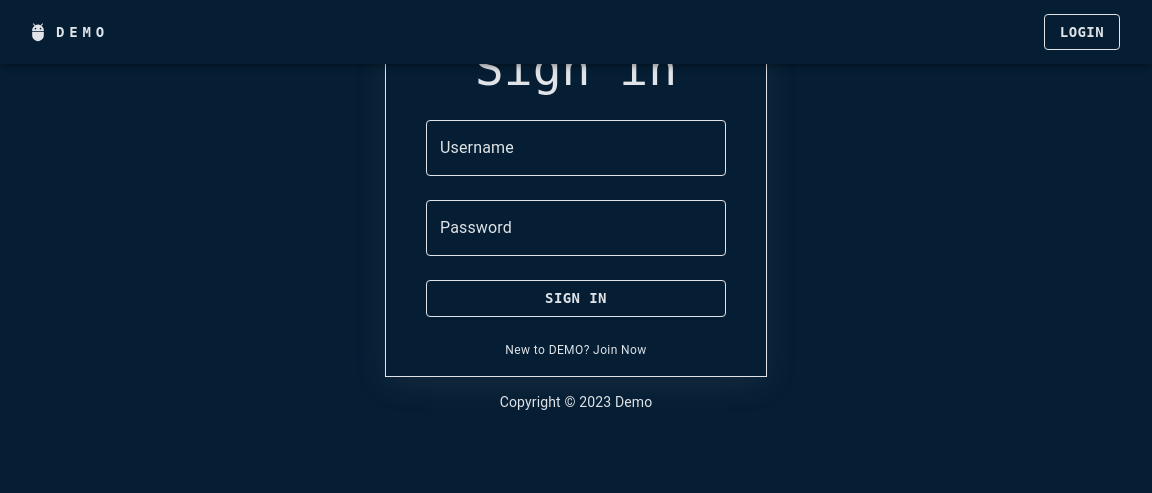
Test: User submits invalid login credentials › it should show an error alert
Click the field labelled "Username" at (576, 148), box [426, 120, 726, 176]
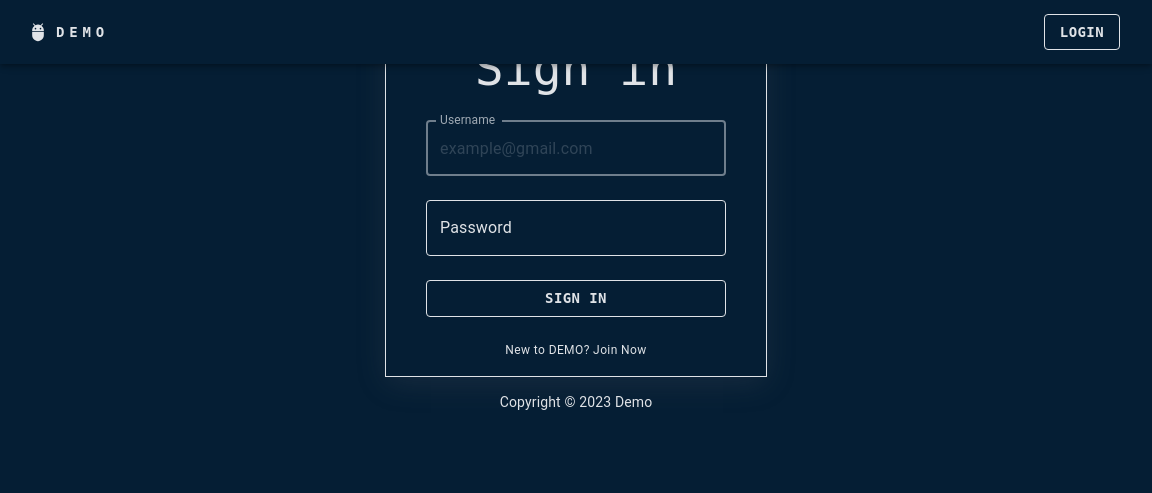
Type keys "dummyusers@hotmail.com"
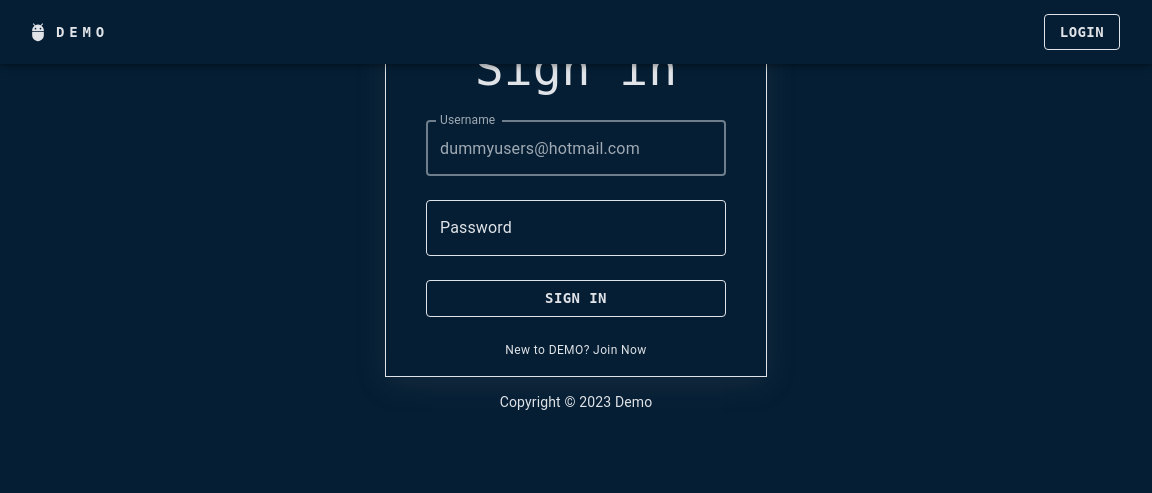
Click the password field labelled "Password" at (576, 228), box [426, 200, 726, 256]
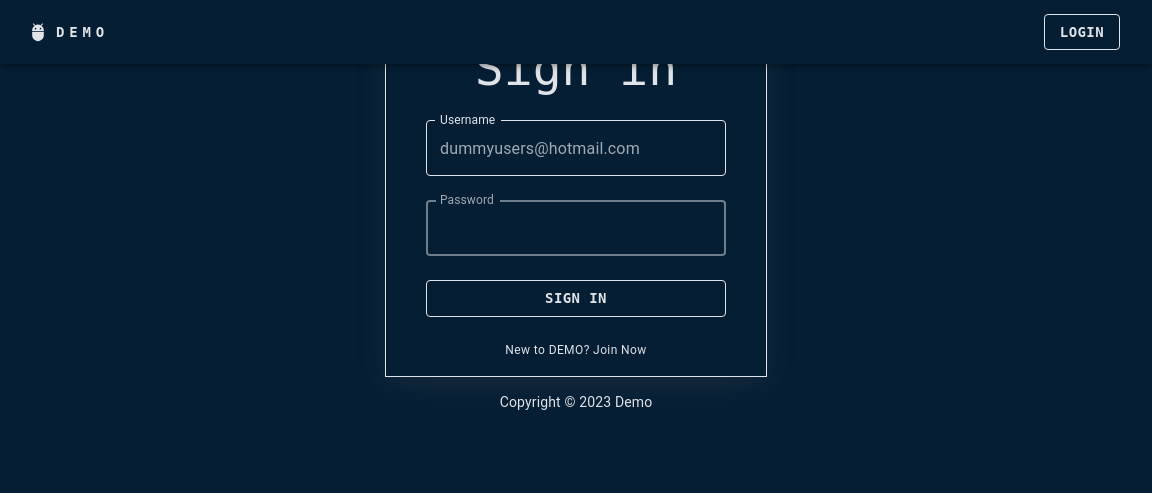
Type keys "passwords"
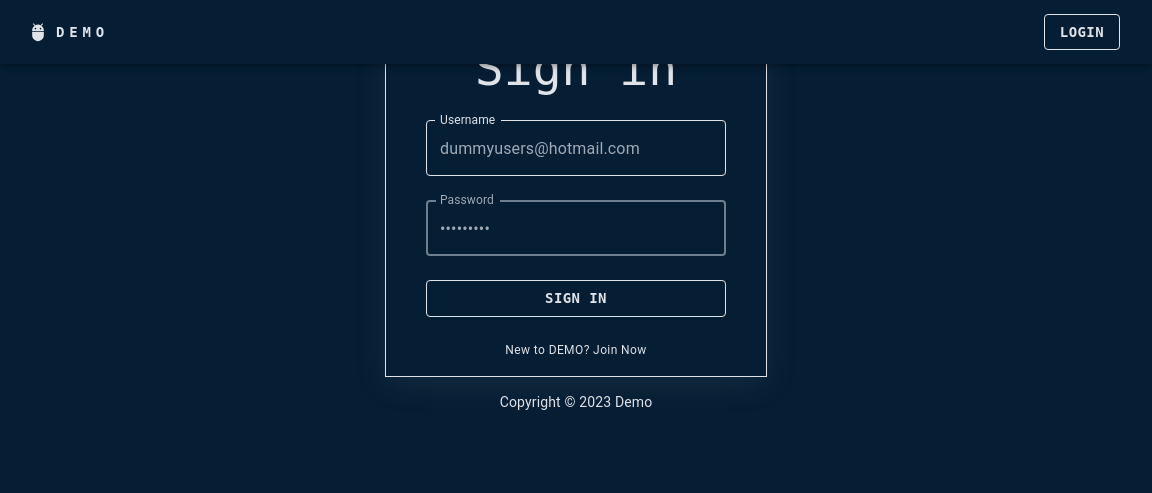
Click the button "Sign in" at (576, 298), box [426, 280, 726, 316]
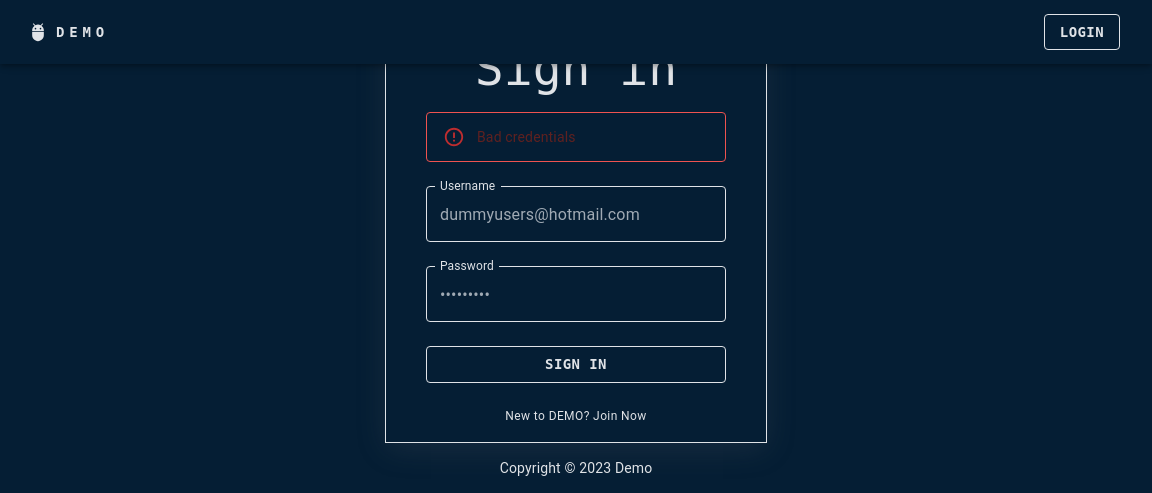
Expected: the text "Bad credentials" is shown, [477, 129, 576, 145]
